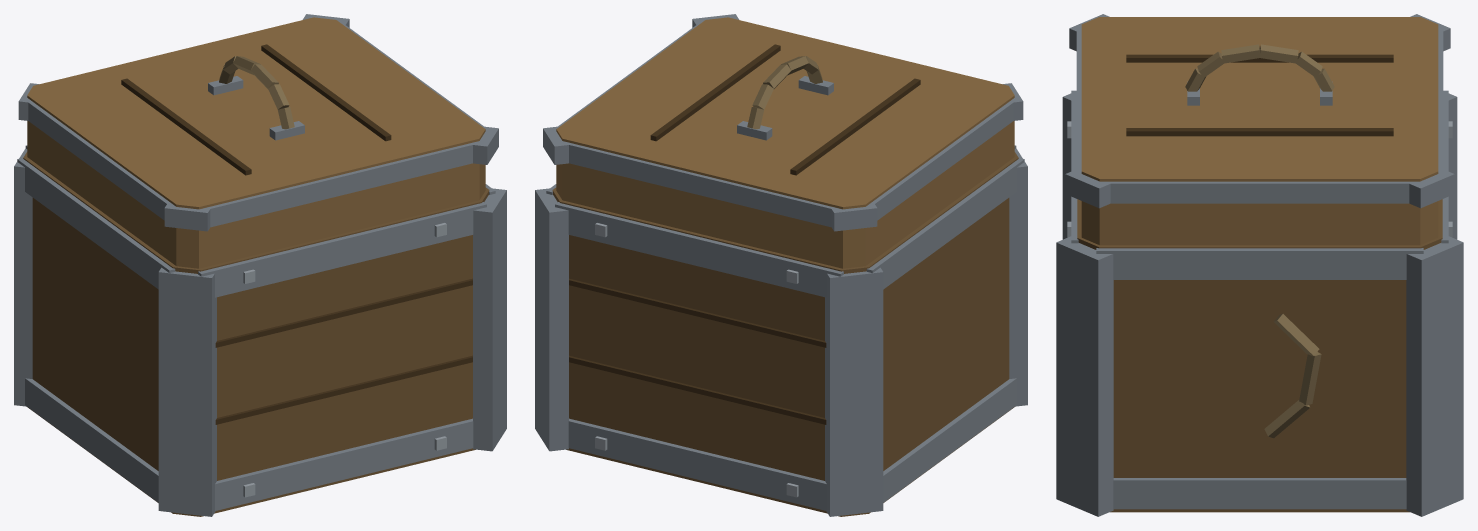
The model's file is mdl_loot_box_wood_v4.glb.
3 views of the same model, side by side, from view 1: azimuth 30°, elevation 25°; view 2: azimuth 150°, elevation 25°; view 3: azimuth 270°, elevation 25° (orthographic). The views are drawn at different scales.
Visible parts, largest first — view 1: GEO_Chest_Body, GEO_Chest_Lid, GEO_Chest_Iron, GEO_Chest_Lid_Iron, GEO_Chest_Trim, GEO_Chest_Lid_Rope; view 2: GEO_Chest_Body, GEO_Chest_Lid, GEO_Chest_Iron, GEO_Chest_Lid_Iron, GEO_Chest_Trim, GEO_Chest_Lid_Rope; view 3: GEO_Chest_Lid, GEO_Chest_Body, GEO_Chest_Iron, GEO_Chest_Lid_Iron, GEO_Chest_Lid_Rope, GEO_Chest_Rope.
Boxes of the visible parts, <box> form: GEO_Chest_Body: <box>23,152,489,516</box>; GEO_Chest_Lid: <box>27,17,485,268</box>; GEO_Chest_Iron: <box>14,145,506,516</box>; GEO_Chest_Lid_Iron: <box>18,14,498,231</box>; GEO_Chest_Trim: <box>215,278,472,424</box>; GEO_Chest_Lid_Rope: <box>219,56,294,129</box>; GEO_Chest_Body: <box>552,152,1018,516</box>; GEO_Chest_Lid: <box>556,17,1014,268</box>; GEO_Chest_Iron: <box>535,145,1027,516</box>; GEO_Chest_Lid_Iron: <box>543,14,1023,231</box>; GEO_Chest_Trim: <box>569,278,826,424</box>; GEO_Chest_Lid_Rope: <box>747,56,822,129</box>; GEO_Chest_Lid: <box>1081,17,1438,245</box>; GEO_Chest_Body: <box>1077,199,1442,512</box>; GEO_Chest_Iron: <box>1056,90,1463,516</box>; GEO_Chest_Lid_Iron: <box>1065,14,1454,208</box>; GEO_Chest_Lid_Rope: <box>1185,44,1334,91</box>; GEO_Chest_Rope: <box>1264,313,1321,438</box>.
Bounding box in the file's own units: 0.9409 × 0.927 × 0.8921.
